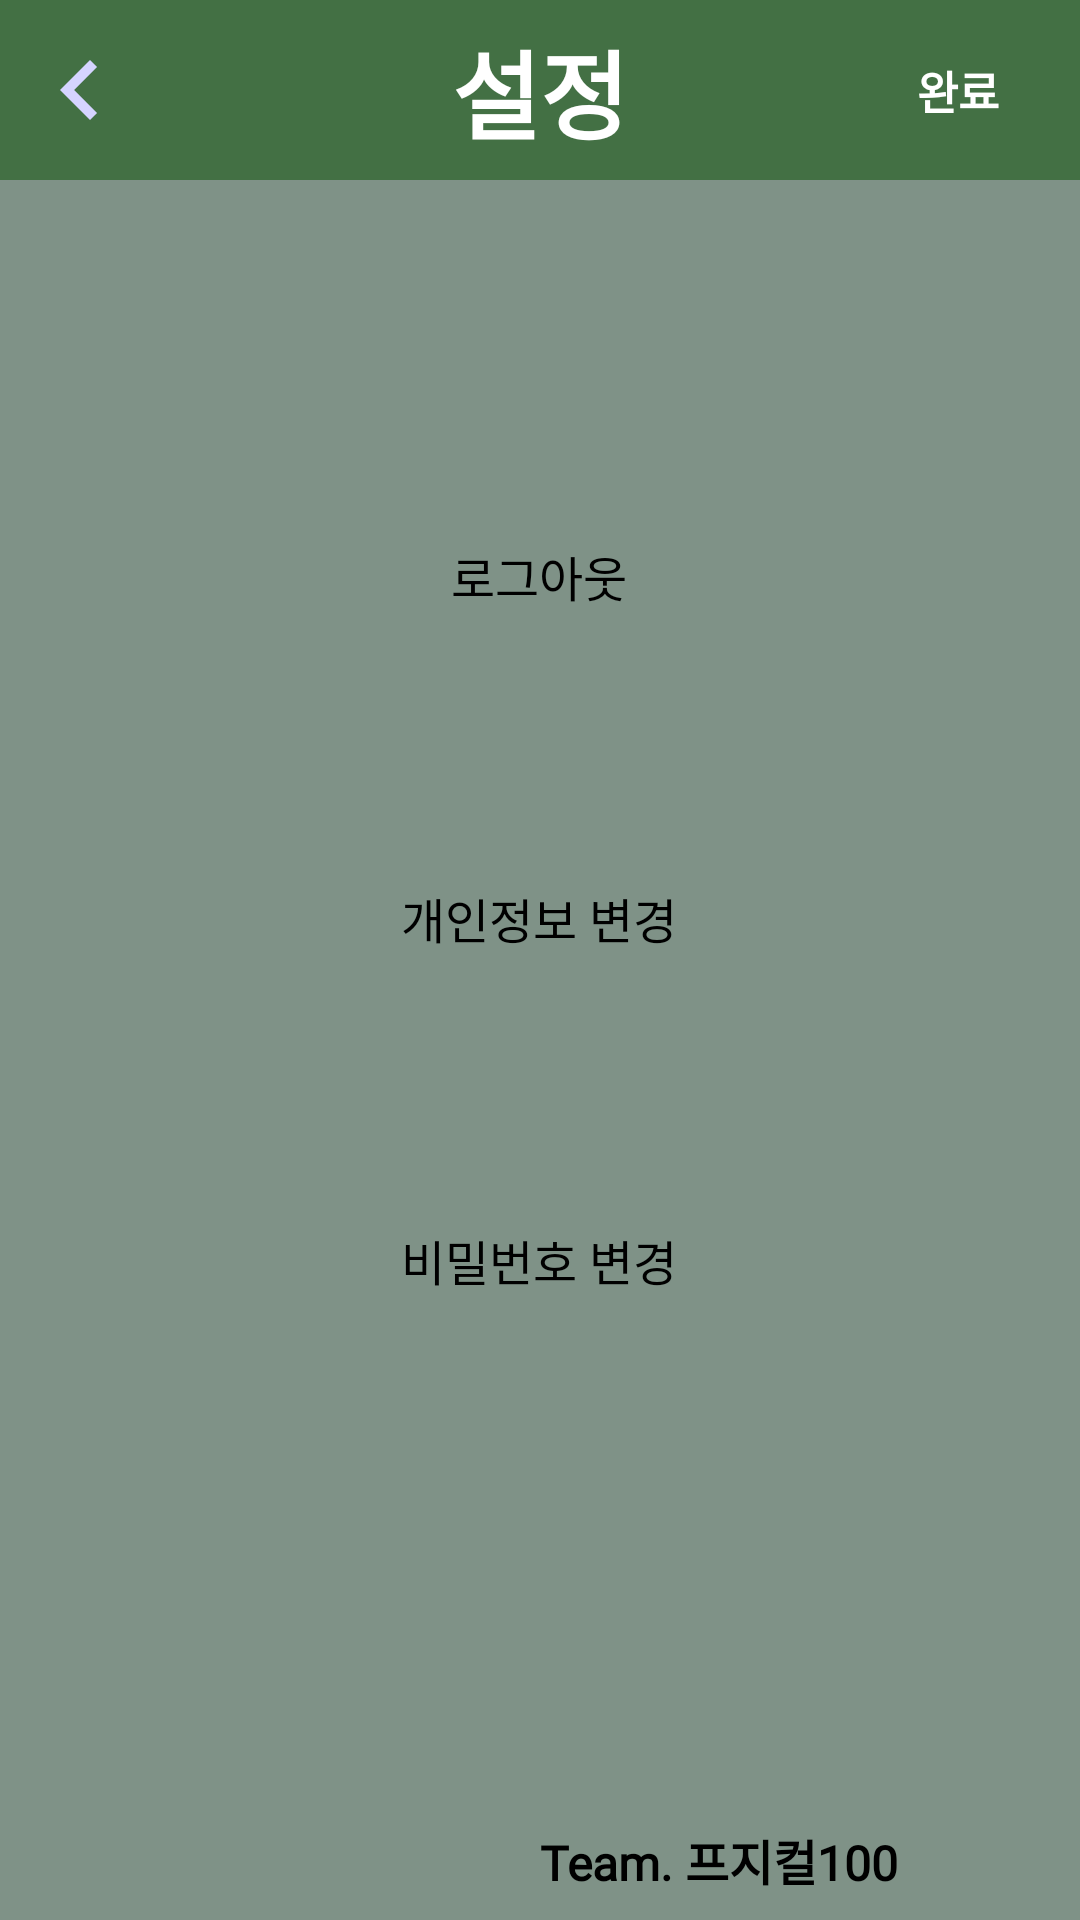

Named icons in this screenshot (1080*1920) and their centers, [x,y]:
chevron left: [78,90]
